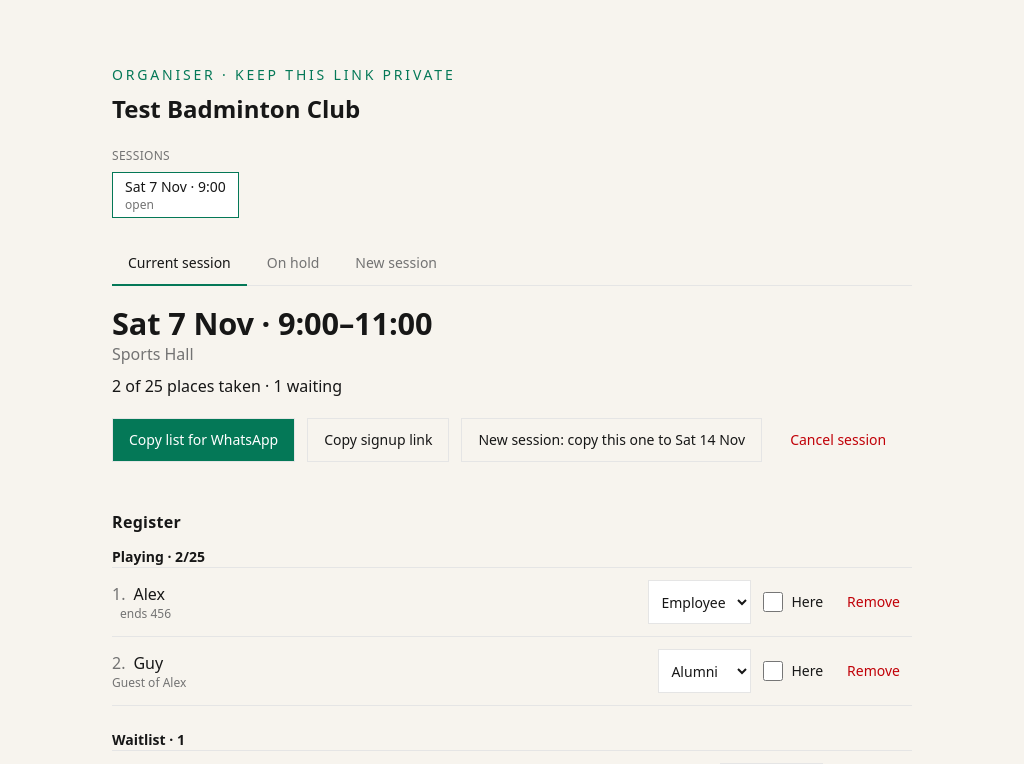
Scenario: copying for WhatsApp › falls back to the old copy command, and says so if that fails too
Click the button "Copy list for WhatsApp".
click(204, 440)  # box [112,418,295,462]
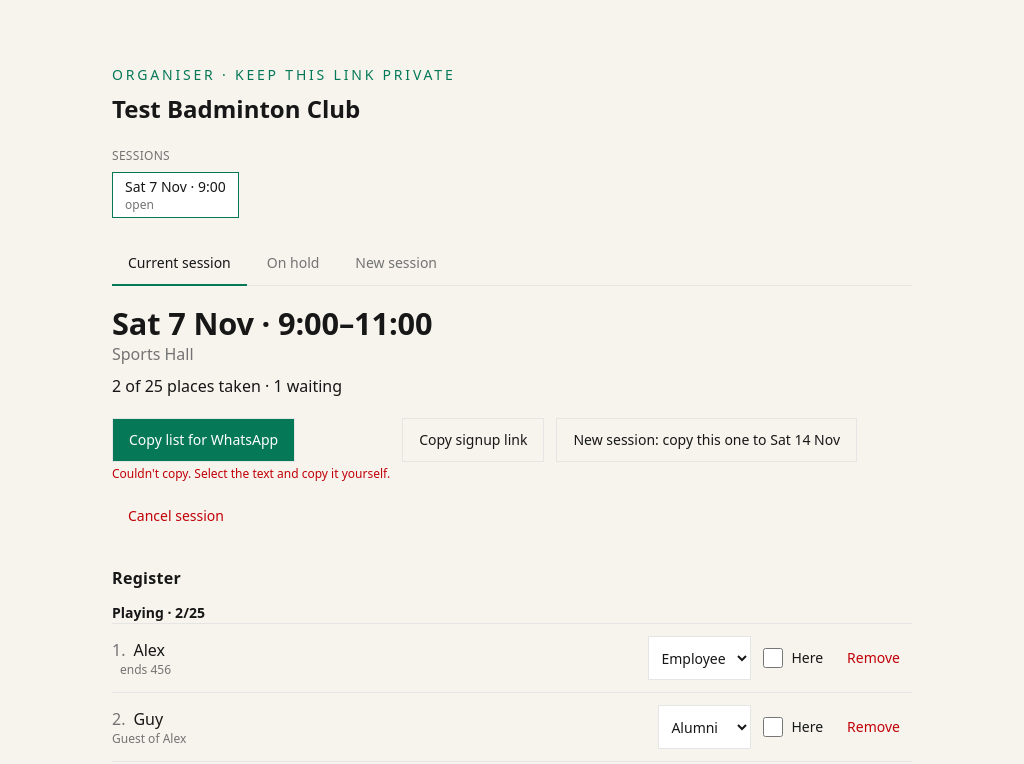
Check: the text "Couldn't copy. Select the text and copy it yourself." is shown, box [112,465,390,482]
